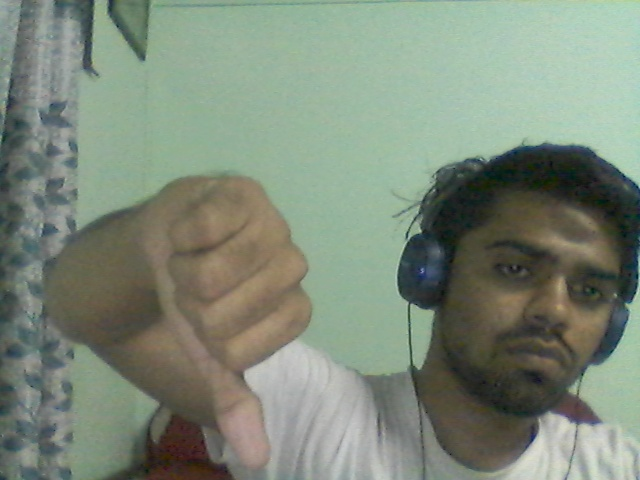No: (61, 138, 333, 480)
